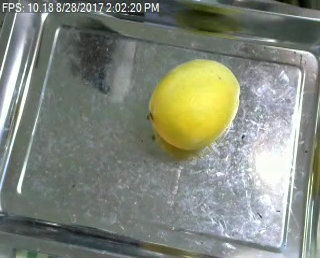Mango: (147, 57, 240, 151)
